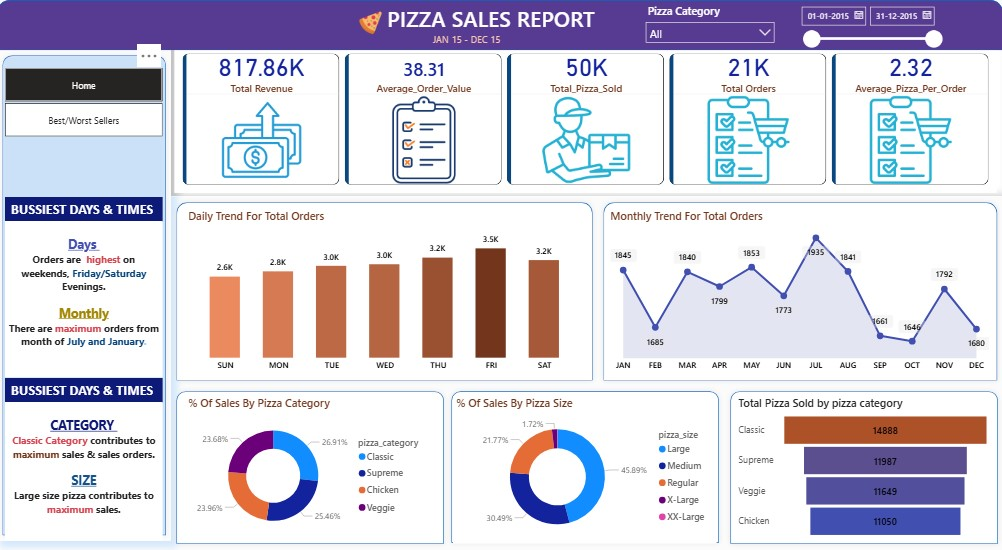

This screenshot's page, from the dashboard's own definition file:
{"tool":"powerbi","page":{"name":"Home","canvas":[1500,820],"ordinal":0},"visuals":[{"type":"shape","box":[0,75,260,731.7],"z":0},{"type":"cardVisual","fields":{"Data":["pizza_db pizza_sales.Total Revenue","pizza_db pizza_sales.Average_Order_Value","pizza_db pizza_sales.Total_Pizza_Sold","pizza_db pizza_sales.Total Orders","pizza_db pizza_sales.Average_Pizza_Per_Order","pizza_db pizza_sales.Total_Pizza_Sold"]},"box":[260,63.3,1240,230],"z":1000},{"type":"shape","box":[0,0,1500,75],"z":2000},{"type":"textbox","box":[633.3,26.7,133.3,48.3],"z":3000},{"type":"image","box":[523.3,16.7,66.7,35],"z":4000},{"type":"shape","box":[260,293.3,636.7,281.7],"z":5000},{"type":"columnChart","title":"Daily Trend For Total Orders","fields":{"Category":["pizza_db pizza_sales.Orders_Day"],"Y":["pizza_db pizza_sales.Total Orders"]},"box":[280,311.7,596.7,251.7],"z":6000},{"type":"shape","box":[896.7,293.3,603.3,281.7],"z":7000},{"type":"areaChart","title":"Monthly Trend For Total Orders","fields":{"Y":["pizza_db pizza_sales.Total Orders"],"Category":["pizza_db pizza_sales.Orders_Month"]},"box":[910,311.7,575,251.7],"z":8000},{"type":"shape","box":[260,575,415,243.3],"z":9000},{"type":"shape","box":[670,575,415,241.7],"z":10000},{"type":"shape","box":[1085,575,415,243.3],"z":11000},{"type":"textbox","box":[11.7,293.3,235,36.7],"z":12000},{"type":"donutChart","title":"% Of Sales By Pizza Category","fields":{"Category":["pizza_db pizza_sales.pizza_category"],"Y":["pizza_db pizza_sales.Total Revenue"]},"box":[280,590,375,216.7],"z":13000},{"type":"donutChart","title":"% Of Sales By Pizza Size","fields":{"Y":["pizza_db pizza_sales.Total Revenue"],"Category":["pizza_db pizza_sales.pizza_size"]},"box":[680,590,393.3,220],"z":14000},{"type":"funnel","title":"Total Pizza Sold by pizza category","fields":{"Category":["pizza_db pizza_sales.pizza_category"],"Y":["pizza_db pizza_sales.Total_Pizza_Sold"]},"box":[1100,590,385,216.7],"z":15000},{"type":"textbox","box":[576.7,0,380,53.3],"z":16000},{"type":"textbox","box":[11.7,330,235,233.3],"z":17000},{"type":"textbox","box":[11.7,563.3,235,36.7],"z":18000},{"type":"textbox","box":[11.7,600,235,206.7],"z":19000},{"type":"slicer","fields":{"Values":["pizza_db pizza_sales.pizza_category"]},"box":[956.7,0,211.7,78.3],"z":20000},{"type":"slicer","fields":{"Values":["pizza_db pizza_sales.order_date"]},"box":[1186.7,0,231.7,78.3],"z":21000},{"type":"pageNavigator","box":[11.2,101.2,235,50],"z":21001},{"type":"pageNavigator","box":[11.2,153.8,235,50],"z":21002}]}

Visuals, with their boxes on the page's 1500x820 design canvas (x1, y1, x2, y2). These are canvas units, not pixel positions in the 1002x550 screenshot, which may show the page scaled, cropped or inside an application window:
shape: crop(0, 75, 260, 807)
cardVisual - pizza_db pizza_sales.Total Revenue x pizza_db pizza_sales.Average_Order_Value: crop(260, 63, 1500, 293)
shape: crop(0, 0, 1500, 75)
textbox: crop(633, 27, 767, 75)
image: crop(523, 17, 590, 52)
shape: crop(260, 293, 897, 575)
"Daily Trend For Total Orders" columnChart: crop(280, 312, 877, 563)
shape: crop(897, 293, 1500, 575)
"Monthly Trend For Total Orders" areaChart: crop(910, 312, 1485, 563)
shape: crop(260, 575, 675, 818)
shape: crop(670, 575, 1085, 817)
shape: crop(1085, 575, 1500, 818)
textbox: crop(12, 293, 247, 330)
"% Of Sales By Pizza Category" donutChart: crop(280, 590, 655, 807)
"% Of Sales By Pizza Size" donutChart: crop(680, 590, 1073, 810)
"Total Pizza Sold by pizza category" funnel: crop(1100, 590, 1485, 807)
textbox: crop(577, 0, 957, 53)
textbox: crop(12, 330, 247, 563)
textbox: crop(12, 563, 247, 600)
textbox: crop(12, 600, 247, 807)
slicer - pizza_db pizza_sales.pizza_category: crop(957, 0, 1168, 78)
slicer - pizza_db pizza_sales.order_date: crop(1187, 0, 1418, 78)
pageNavigator: crop(11, 101, 246, 151)
pageNavigator: crop(11, 154, 246, 204)
